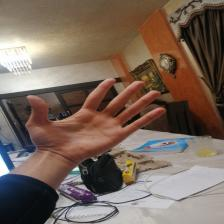five: (18, 74, 179, 178)
